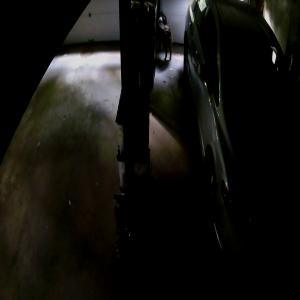garbage bin: (129, 0, 157, 90)
honda civic: (184, 0, 300, 269)
tool bucket: (116, 226, 147, 294)
